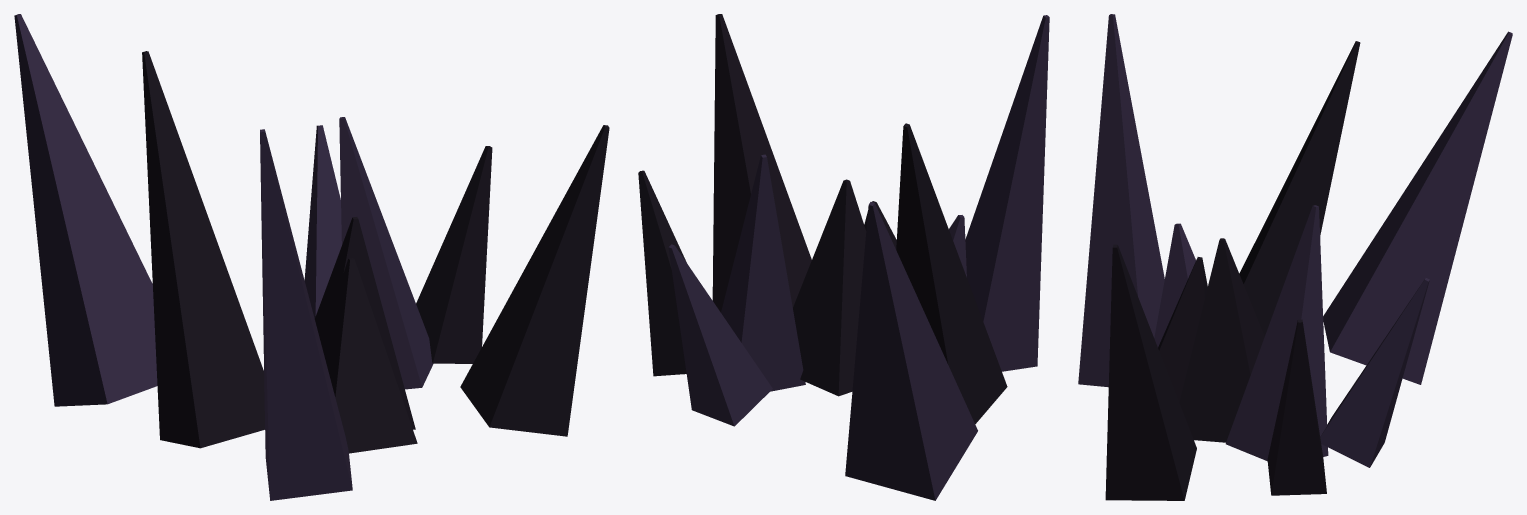
File: DV_Rock_ObsidianOutcrop.obj
3 views of the same model, side by side, from view 1: azimuth 30°, elevation 25°; view 2: azimuth 150°, elevation 25°; view 3: azimuth 270°, elevation 25° (orthographic). The views are drawn at different scales.
Visible parts, largest first — view 1: shard_0, shard_7, shard_1, shard_2, shard_3, shard_5, shard_6, shard_8, shard_9; view 2: shard_0, shard_2, shard_7, shard_1, shard_6, shard_9, shard_8, shard_5, shard_4; view 3: shard_0, shard_2, shard_1, shard_6, shard_9, shard_7, shard_8, shard_5, shard_3, shard_4.
Part boxes in pixels (x1,y1,x2,y2): shard_0: [14, 14, 157, 406]; shard_7: [142, 51, 264, 448]; shard_1: [460, 125, 609, 436]; shard_2: [260, 129, 352, 500]; shard_3: [321, 258, 417, 453]; shard_5: [416, 146, 492, 363]; shard_6: [339, 117, 433, 389]; shard_8: [304, 125, 341, 318]; shard_9: [314, 217, 415, 429]; shard_0: [845, 202, 977, 500]; shard_2: [965, 15, 1049, 371]; shard_7: [896, 123, 1007, 424]; shard_1: [712, 14, 811, 312]; shard_6: [721, 154, 805, 391]; shard_9: [793, 179, 866, 396]; shard_8: [668, 244, 772, 426]; shard_5: [638, 170, 686, 376]; shard_4: [949, 215, 966, 277]; shard_0: [1323, 31, 1512, 384]; shard_2: [1078, 14, 1164, 387]; shard_1: [1105, 244, 1196, 500]; shard_6: [1225, 205, 1328, 461]; shard_9: [1179, 238, 1264, 442]; shard_7: [1239, 41, 1360, 336]; shard_8: [1320, 278, 1429, 467]; shard_5: [1267, 319, 1326, 495]; shard_3: [1158, 257, 1207, 401]; shard_4: [1154, 223, 1195, 347].
Size of the model in its own units: 6.49 by 6.07 by 6.71.
